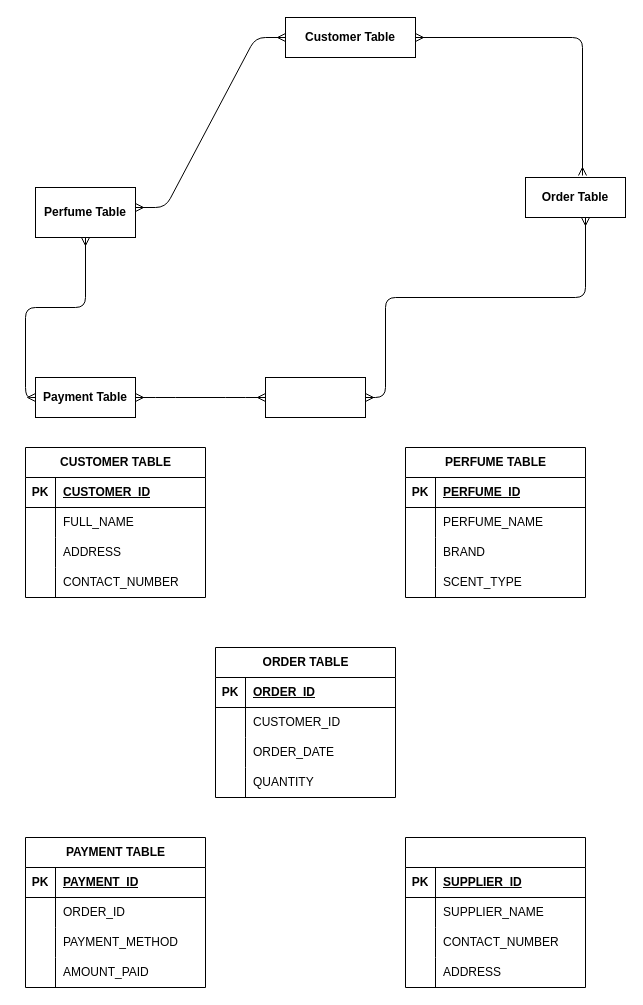
Image size: 643x1005. Some labels were removed from this diagram. The shapes that lost their labels are listed below. From the top down, each one's box as (x1, y1, x2, y2) in pixels, then its label:
(264, 376, 366, 418): Supplier Table
(404, 836, 586, 988): SUPPLIER METHOD
